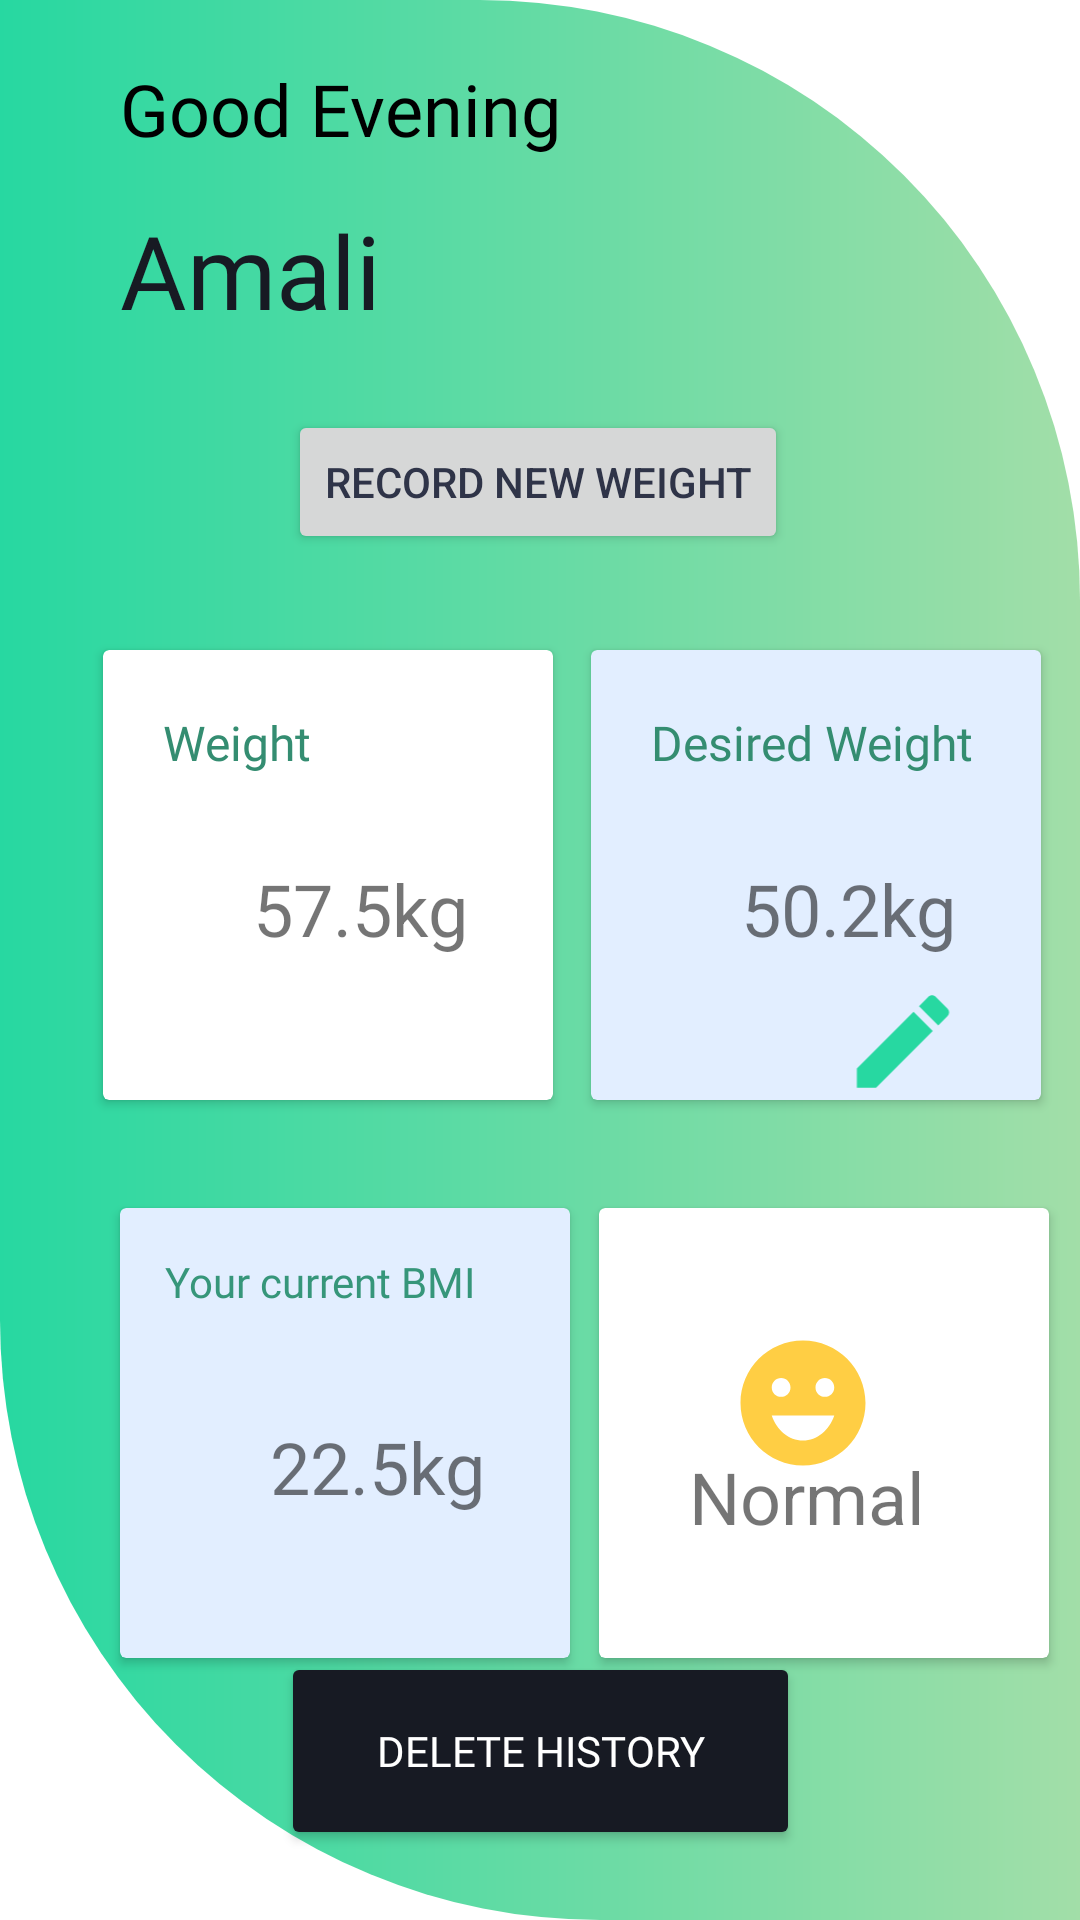

Point at icon controls on the screen. Image size 1080px×1920px, points as (x=x, y=y).
editbtn: (x=903, y=1041)
emoji emotions: (x=803, y=1403)
